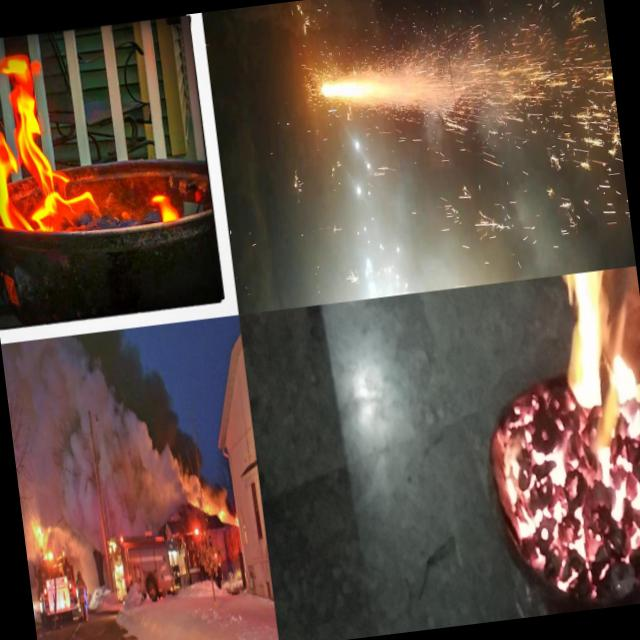fire: (482, 370, 592, 607), (0, 38, 103, 250), (554, 265, 640, 431), (572, 419, 640, 601), (147, 168, 186, 228), (218, 507, 238, 527)
smoke: (20, 326, 214, 530)
